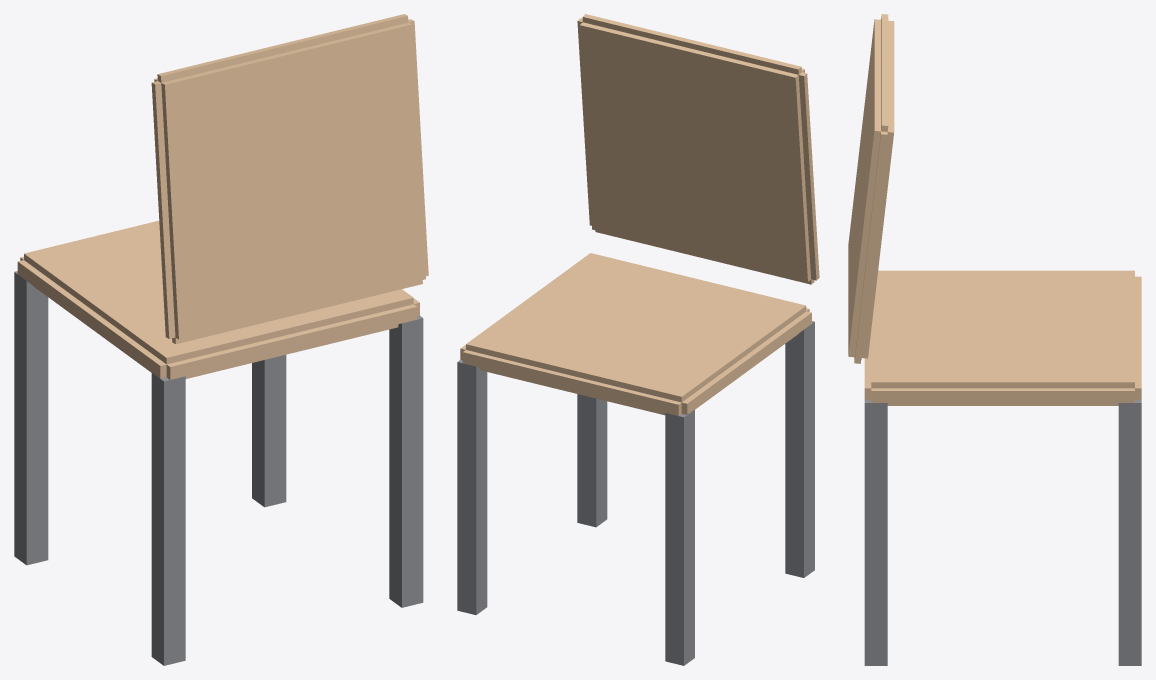
The model's file is cafe_chair.glb.
The picture shows the model from 3 angles, left to right: view 1: azimuth 30°, elevation 25°; view 2: azimuth 150°, elevation 25°; view 3: azimuth 270°, elevation 25°; orthographic projection. The views are drawn at different scales.
Parts seen in each view (by area): view 1: cafe_chair; view 2: cafe_chair; view 3: cafe_chair.
Boxes of the visible parts, x1,y1,x2,y2 form: cafe_chair: [14, 14, 428, 665]; cafe_chair: [457, 14, 819, 665]; cafe_chair: [848, 14, 1141, 665].
Bounding box in the file's own units: 0.42 × 0.8994 × 0.4448.
